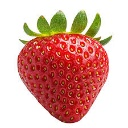strawberry: (15, 11, 112, 124)
